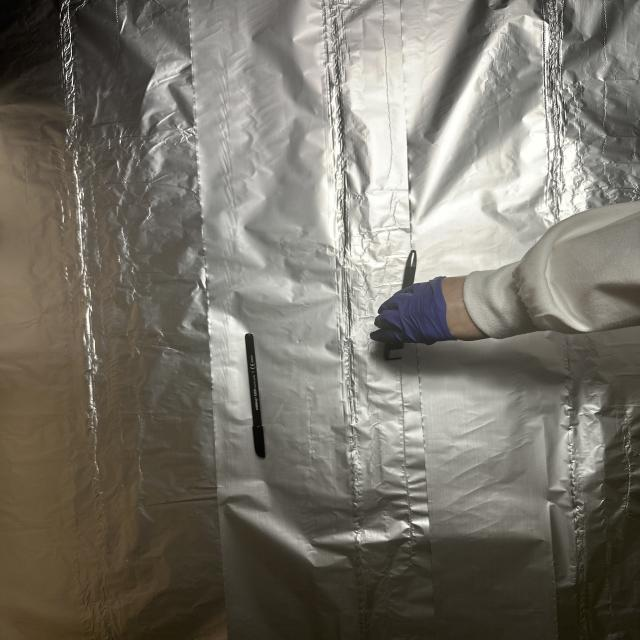glove_partial: (372, 274, 496, 344)
